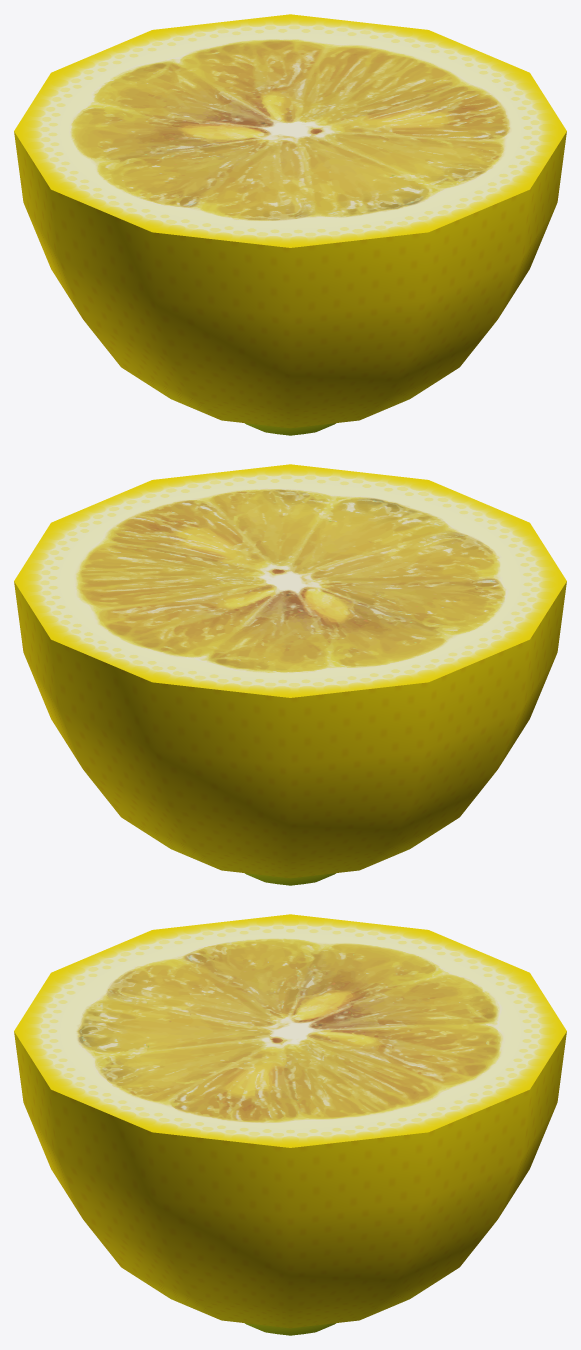
The model's file is Lemon_Half_Bottom.fbx.
The picture shows the model from 3 angles, top to bottom: view 1: azimuth 30°, elevation 25°; view 2: azimuth 150°, elevation 25°; view 3: azimuth 270°, elevation 25°; orthographic projection.
Parts seen in each view (by area): view 1: Lemon_Half_Bottom; view 2: Lemon_Half_Bottom; view 3: Lemon_Half_Bottom.
Part boxes in pixels (x1=…): Lemon_Half_Bottom: x1=14, y1=14, x2=566, y2=435; Lemon_Half_Bottom: x1=14, y1=464, x2=566, y2=885; Lemon_Half_Bottom: x1=14, y1=914, x2=566, y2=1335.
Size of the model in its own units: 1.57 by 0.9343 by 1.57.
